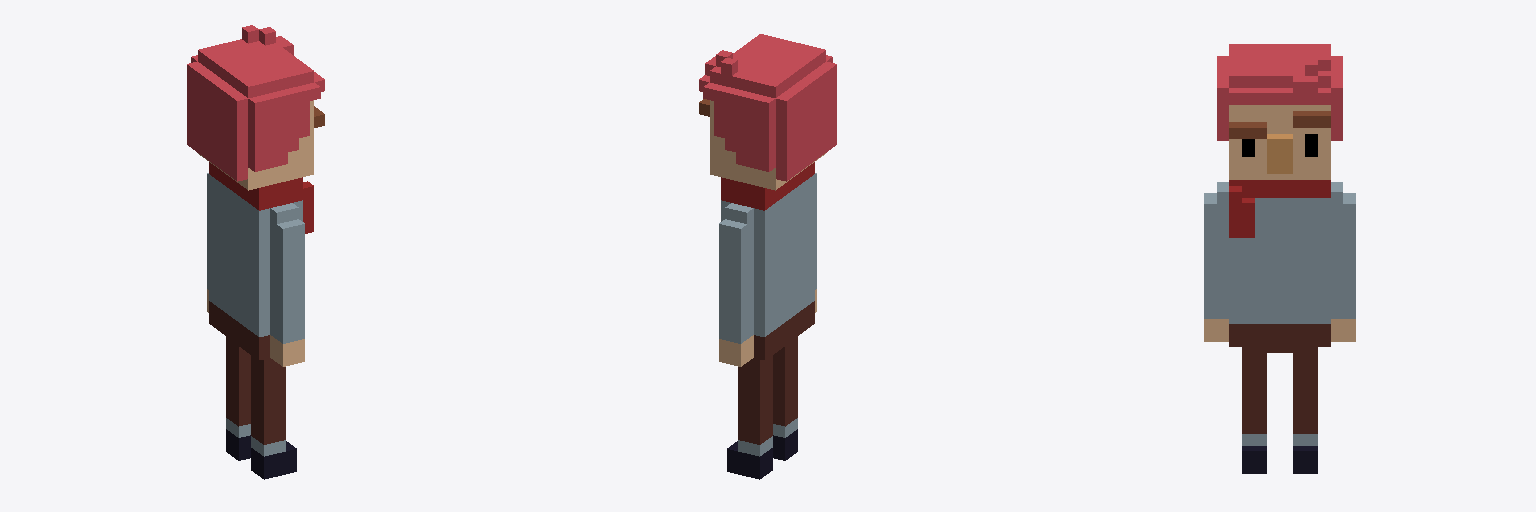
3 renders of one model, left to right at view 1: azimuth 30°, elevation 25°; view 2: azimuth 150°, elevation 25°; view 3: azimuth 270°, elevation 25°, orthographic.
Parts seen in each view (by area): view 1: object 1; view 2: object 1; view 3: object 1.
Part boxes in pixels (x1,y1,x2,y2): object 1: (187,25,324,479); object 1: (699,34,836,479); object 1: (1204,44,1355,473).
Size of the model in its own units: 0.8 by 3.6 by 1.2.
1 materials, 1 textured.